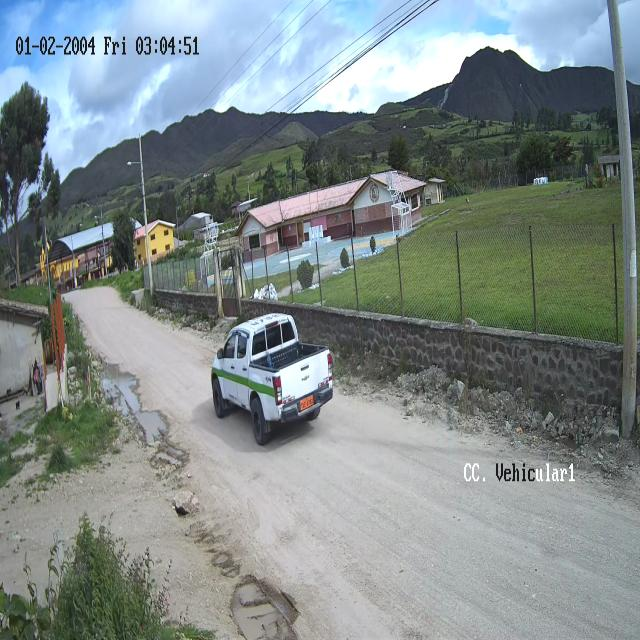CMT: (210, 315, 334, 447)
